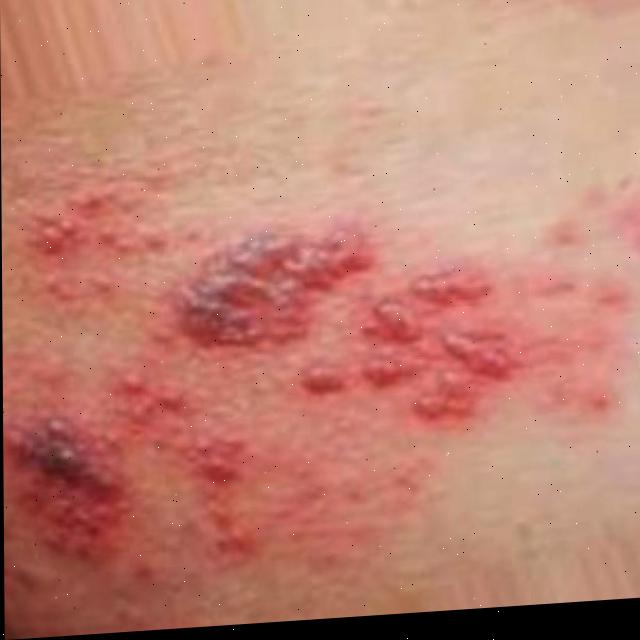Shingles: (1, 129, 640, 626)
